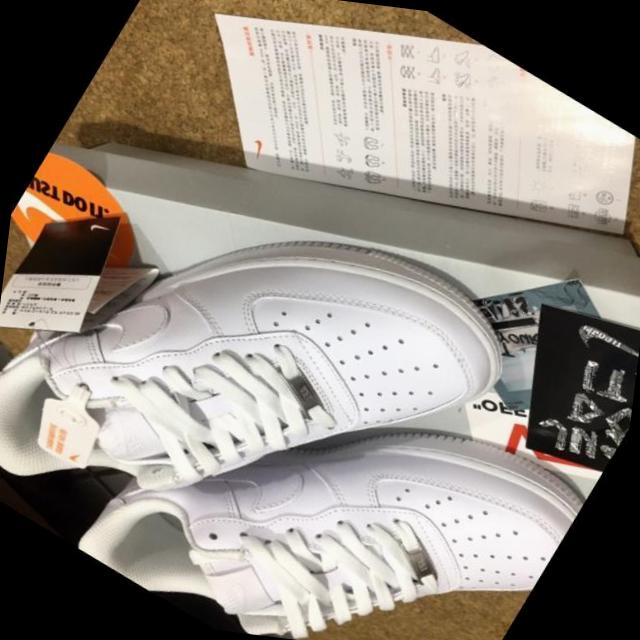nike_original_airforce: (0, 87, 575, 640), (64, 260, 611, 640)
